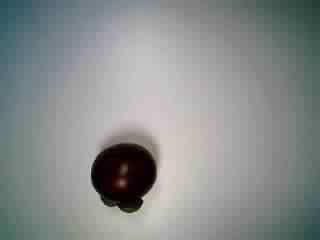mangosteen: (85, 140, 159, 219)
